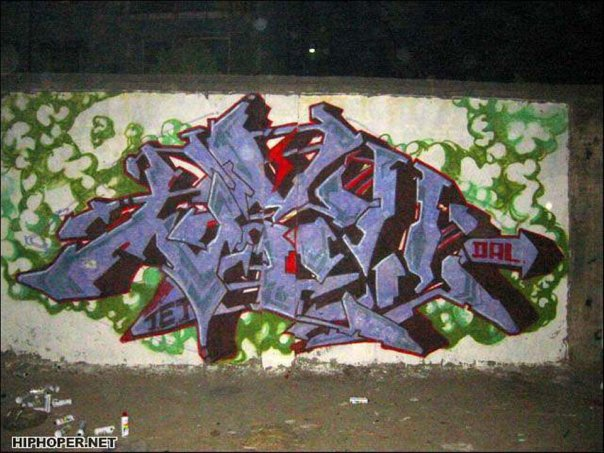graffity: (1, 86, 572, 367)
